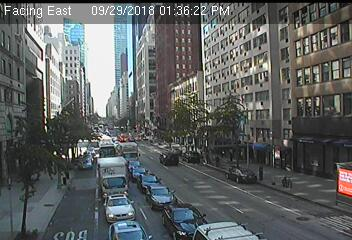car: (162, 204, 206, 240), (94, 156, 128, 198), (190, 221, 262, 240), (103, 194, 136, 223), (107, 221, 152, 240), (145, 185, 177, 209), (225, 167, 256, 185), (116, 142, 139, 166), (136, 173, 160, 192), (98, 140, 115, 163), (126, 165, 149, 182), (159, 152, 178, 167), (182, 151, 200, 164), (125, 160, 140, 173), (80, 159, 92, 168), (82, 154, 91, 161)
